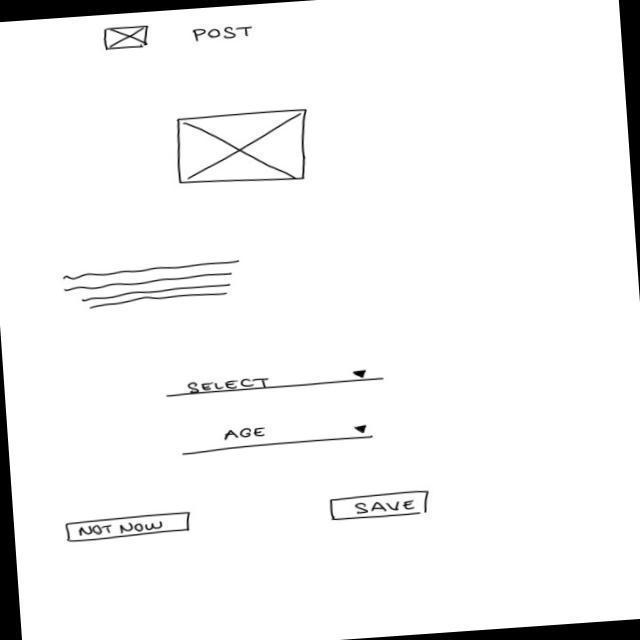button: (62, 510, 196, 545), (326, 490, 434, 525)
checkbox: (94, 14, 258, 56)
image: (172, 106, 315, 191)
select: (174, 413, 379, 458), (162, 363, 388, 400)
textbox: (59, 259, 245, 315)
